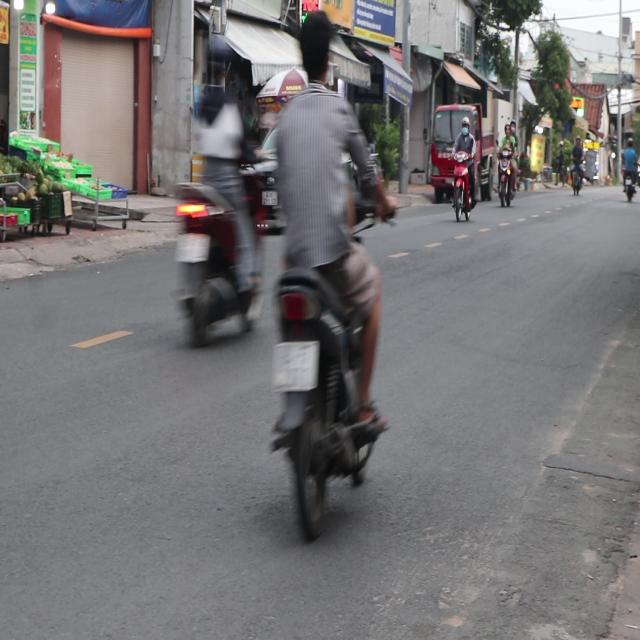helmet: (202, 32, 230, 90)
licenseplate: (260, 6, 394, 536), (170, 28, 265, 348)
motorcyclist: (296, 8, 334, 85)
nohelmet: (272, 341, 317, 389), (176, 233, 209, 261)
